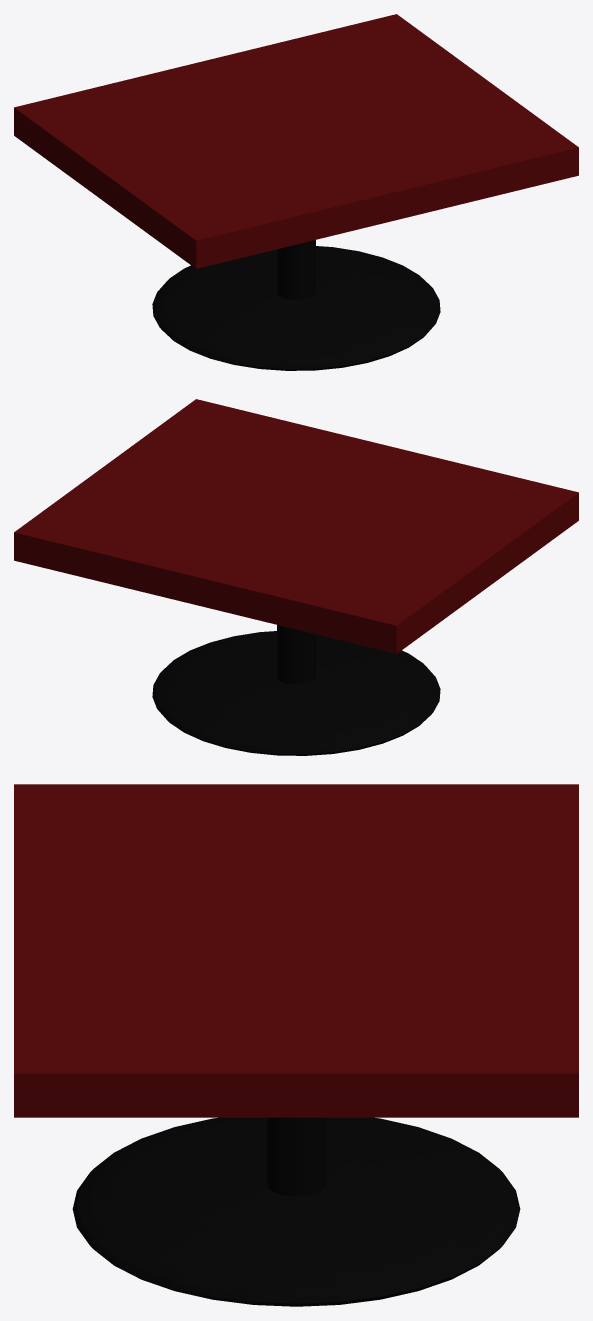
Rendered from table.fbx.
The picture shows the model from 3 angles, top to bottom: view 1: azimuth 30°, elevation 25°; view 2: azimuth 150°, elevation 25°; view 3: azimuth 270°, elevation 25°; orthographic projection. The views are drawn at different scales.
Visible parts, largest first — view 1: TableTop, TableFoot, TableStand; view 2: TableTop, TableFoot, TableStand; view 3: TableTop, TableFoot, TableStand.
Boxes of the visible parts, <box> form: TableTop: <box>14,14,578,268</box>; TableFoot: <box>152,246,440,370</box>; TableStand: <box>277,240,315,299</box>; TableTop: <box>14,399,578,653</box>; TableFoot: <box>152,631,440,755</box>; TableStand: <box>277,625,315,684</box>; TableTop: <box>14,784,578,1117</box>; TableFoot: <box>72,1117,520,1306</box>; TableStand: <box>267,1117,325,1196</box>.
Bounding box in the file's own units: 584 × 287 × 481.
